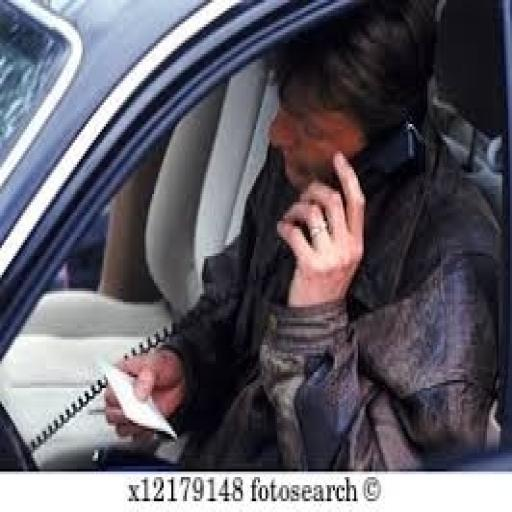calling: (98, 2, 504, 472)
